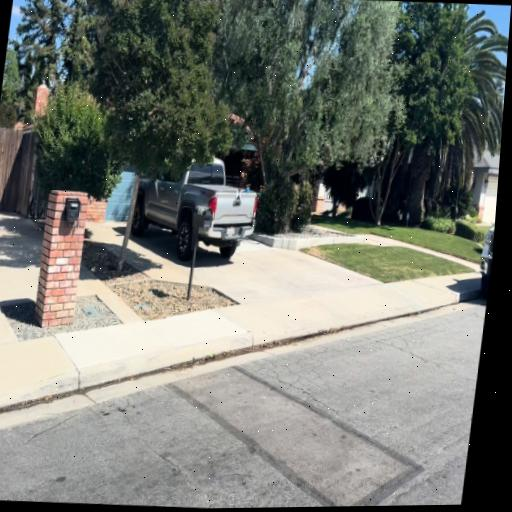target1: (235, 189, 242, 201)
